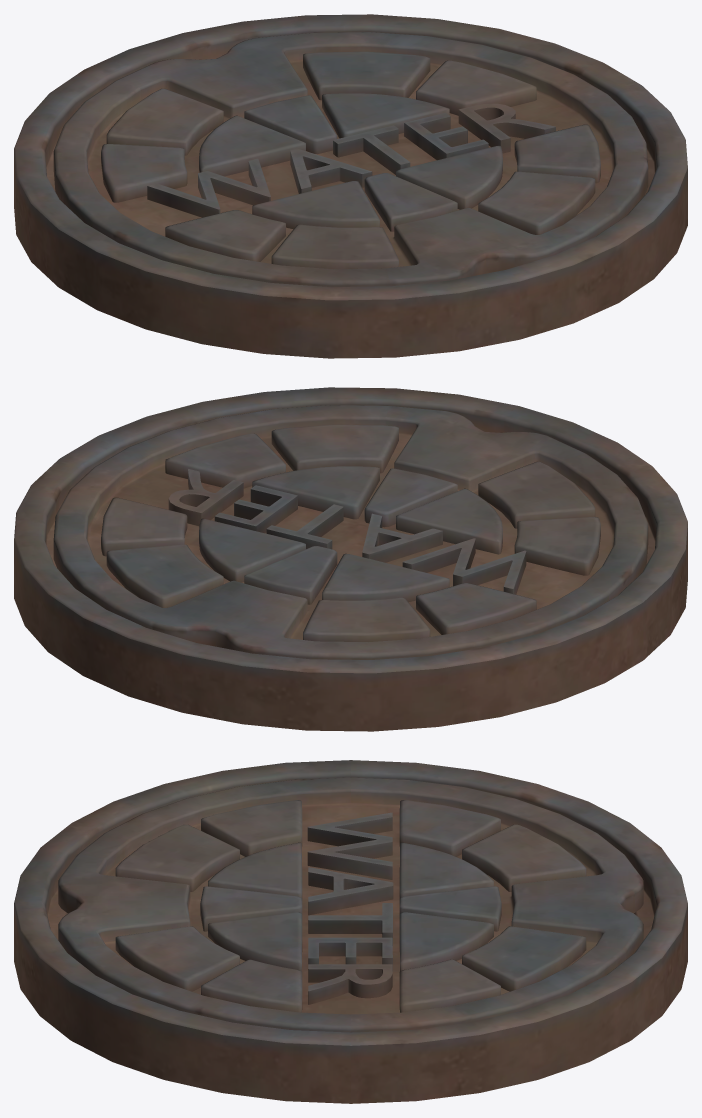
File: manhole-cover.glb
The picture shows the model from 3 angles, top to bottom: view 1: azimuth 30°, elevation 25°; view 2: azimuth 150°, elevation 25°; view 3: azimuth 270°, elevation 25°; orthographic projection.
Visible parts, largest first — view 1: water_manhole_cover, water_manhole_cover_frame; view 2: water_manhole_cover, water_manhole_cover_frame; view 3: water_manhole_cover, water_manhole_cover_frame.
Part boxes in pixels (x1=…): water_manhole_cover: x1=53, y1=32, x2=648, y2=286; water_manhole_cover_frame: x1=14, y1=14, x2=687, y2=358; water_manhole_cover: x1=53, y1=405, x2=648, y2=659; water_manhole_cover_frame: x1=14, y1=387, x2=687, y2=731; water_manhole_cover: x1=58, y1=777, x2=643, y2=1032; water_manhole_cover_frame: x1=14, y1=760, x2=687, y2=1103.
Size of the model in its own units: 0.6908 by 0.0676 by 0.6908.
1 material, 1 textured.
